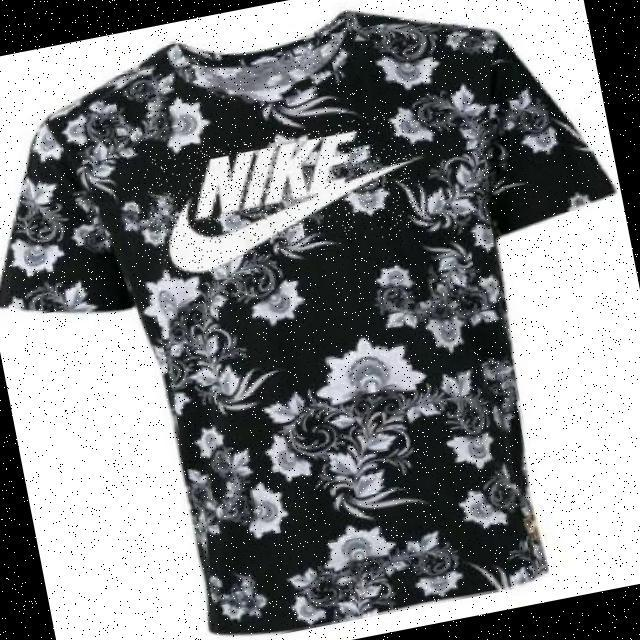Nike: (141, 109, 435, 282)
